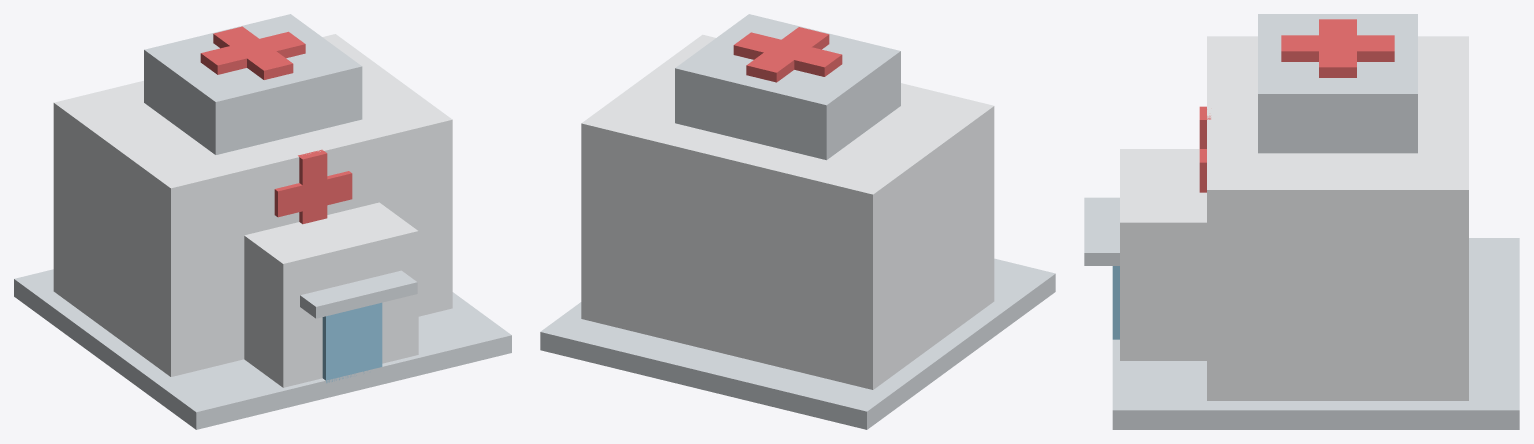
File: hospital.fbx
3 views of the same model, side by side, from view 1: azimuth 30°, elevation 25°; view 2: azimuth 150°, elevation 25°; view 3: azimuth 270°, elevation 25° (orthographic). The views are drawn at different scales.
Parts seen in each view (by area): view 1: Hospital; view 2: Hospital; view 3: Hospital.
Part boxes in pixels (left/top/right/bottom): Hospital: left=14, top=14, right=511, bottom=429; Hospital: left=540, top=14, right=1055, bottom=429; Hospital: left=1084, top=14, right=1519, bottom=429.
Bounding box in the file's own units: 2.8 × 2.28 × 2.99.
